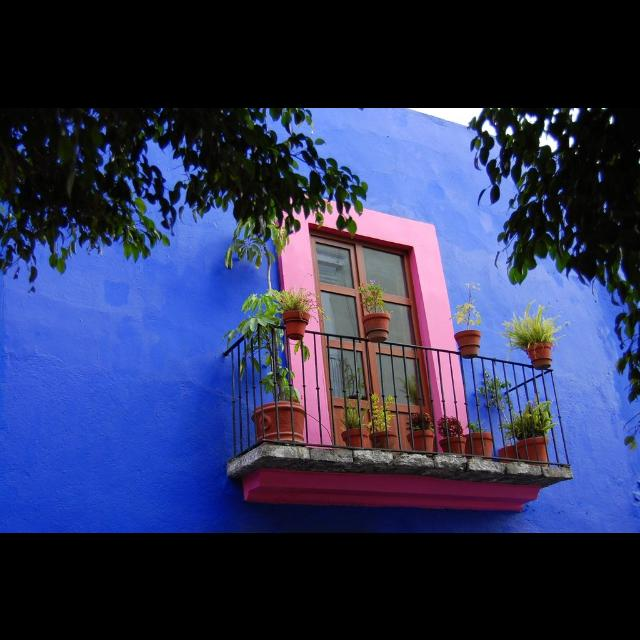Flower: (368, 278, 376, 284)
